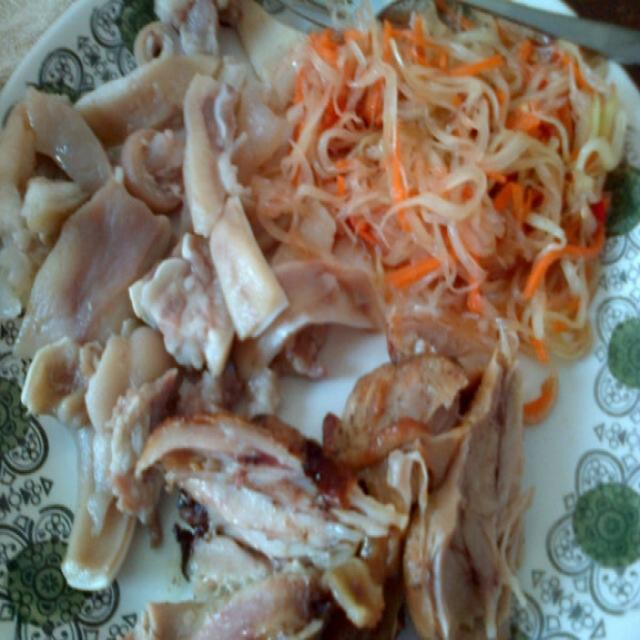蔬菜料理: (8, 24, 601, 625)
